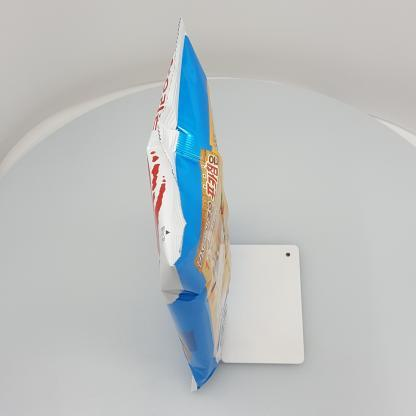Plastic Packaging: (144, 19, 234, 386)
